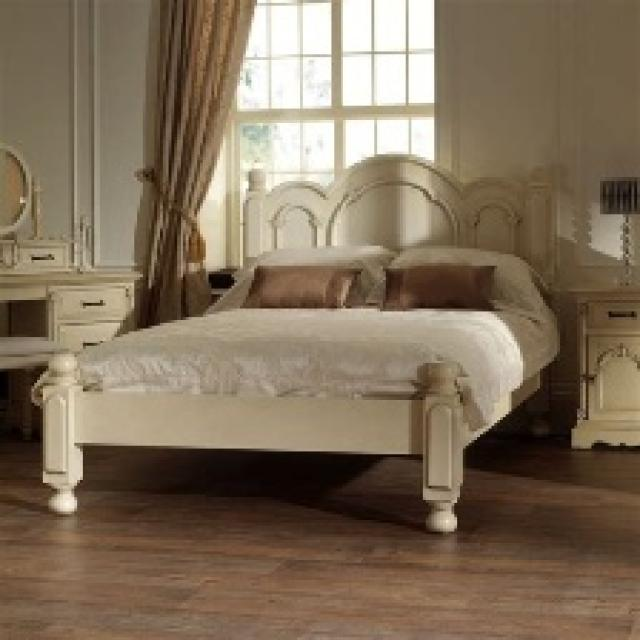Bed: (29, 152, 560, 532)
